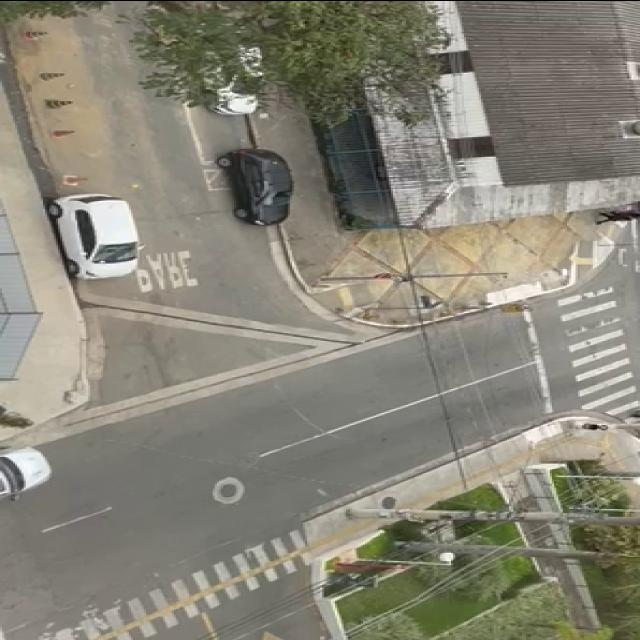car: (46, 195, 140, 282), (193, 0, 257, 113), (217, 146, 293, 224), (1, 442, 58, 499)
